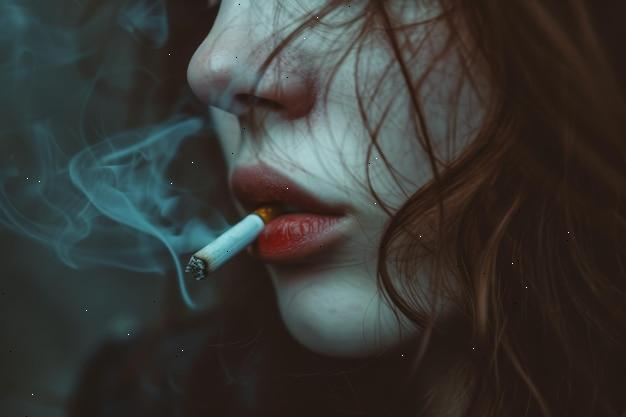cigarette: (185, 205, 279, 279)
